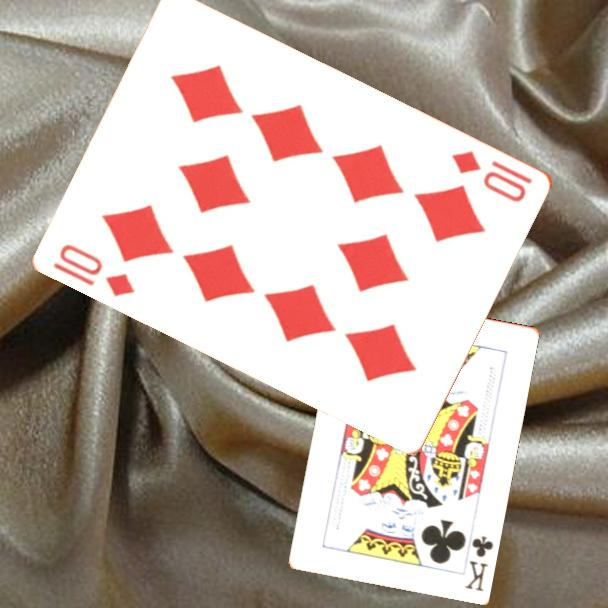c13: (461, 532, 496, 593)
d10: (50, 240, 139, 300), (449, 146, 536, 205)
